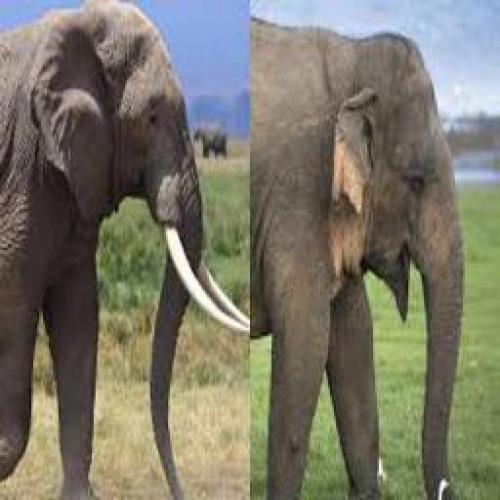african_elephant-endangered: (0, 0, 246, 465), (249, 20, 461, 499)
